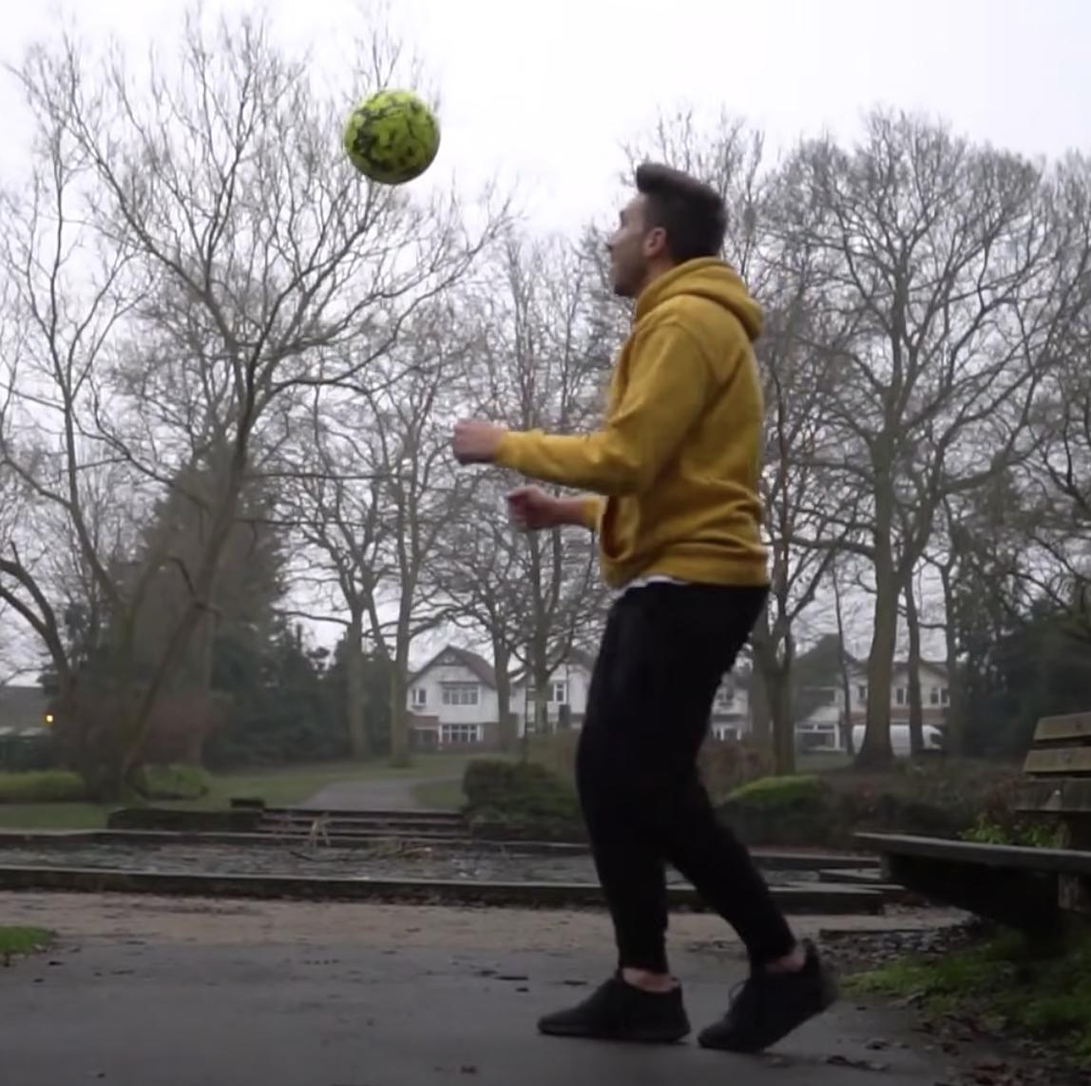ball: (347, 87, 441, 183)
foot: (702, 938, 833, 1044), (538, 971, 685, 1043)
person: (452, 161, 830, 1057)
